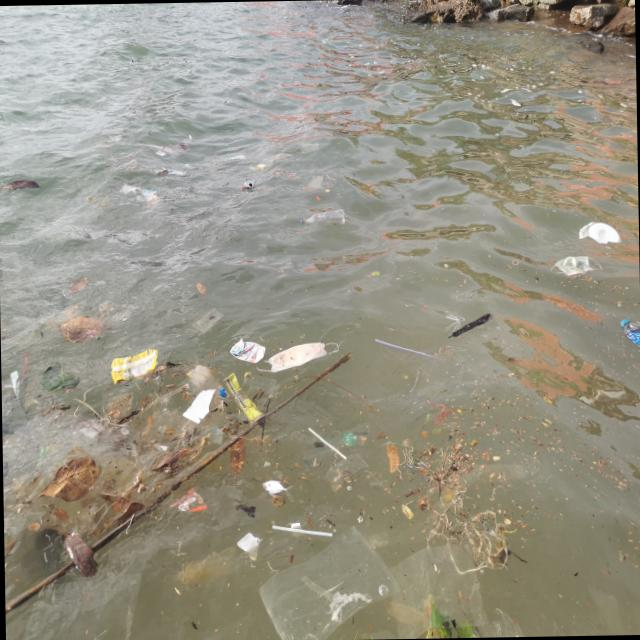can: (243, 181, 257, 191)
foam: (580, 221, 621, 248)
plastic bottle: (300, 209, 346, 231), (620, 319, 640, 353)
